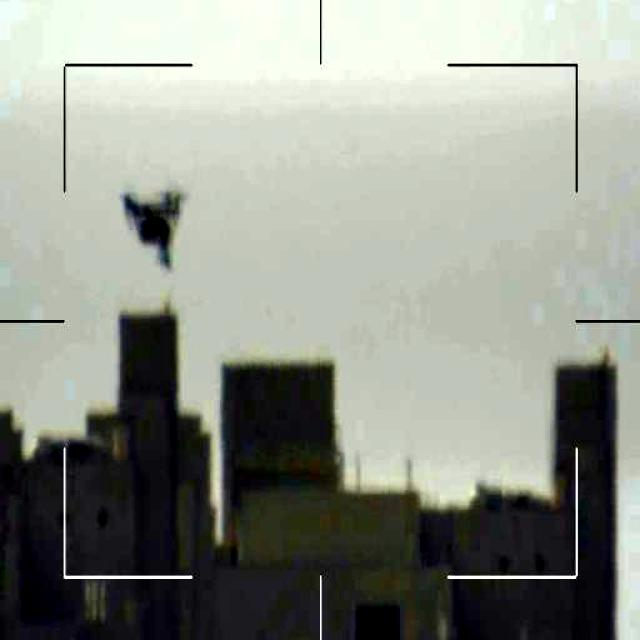bird: (116, 179, 192, 270)
